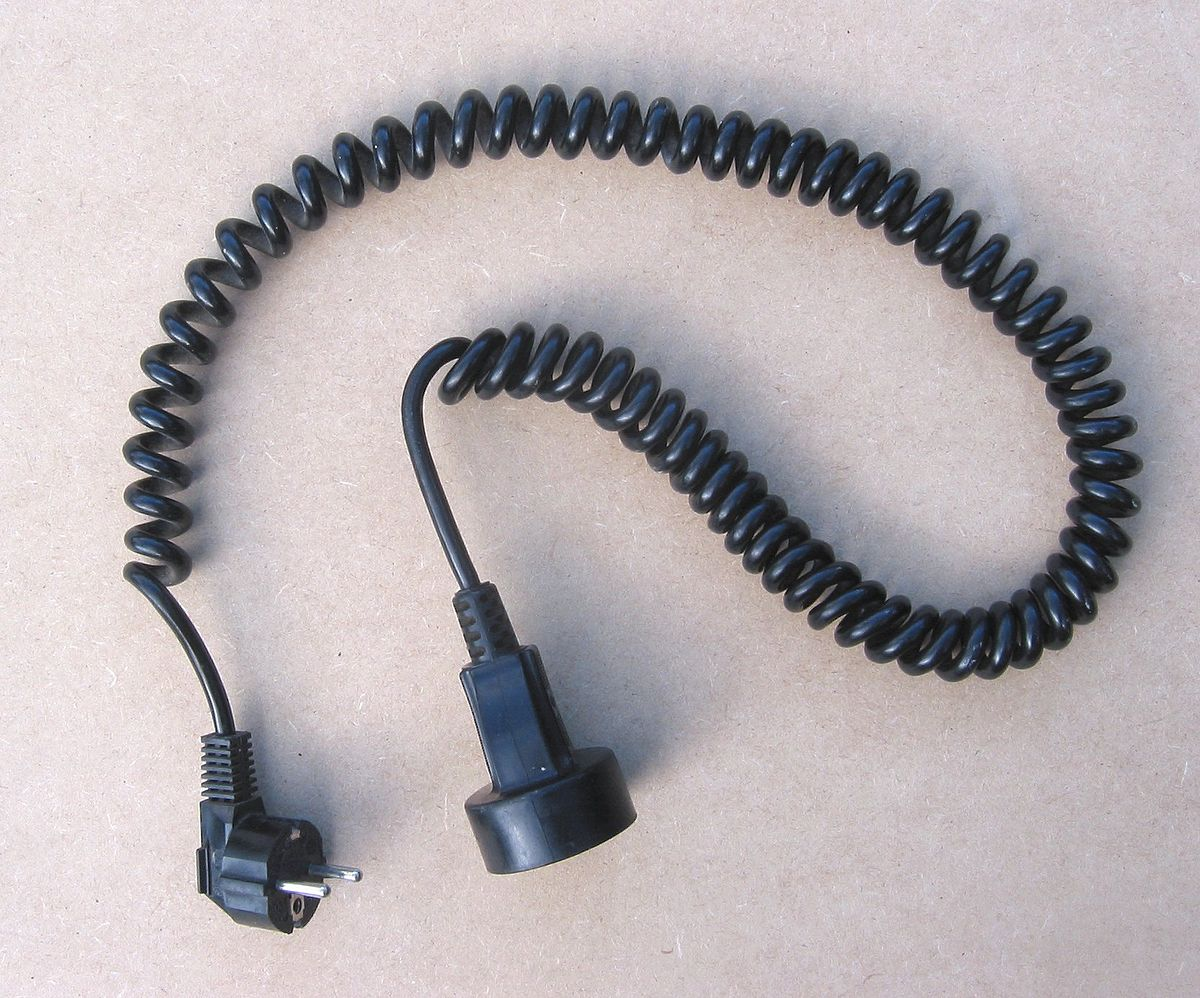Nonrec_Tangler: (82, 76, 1145, 963)
